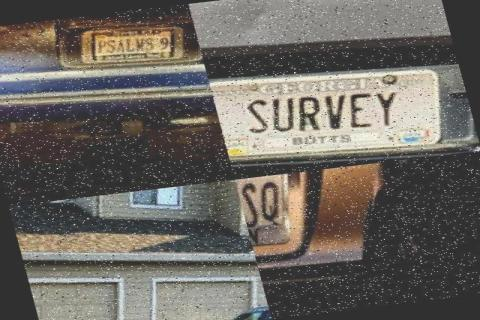LicensePlate: (207, 67, 443, 156), (235, 168, 345, 248), (93, 26, 177, 59)
